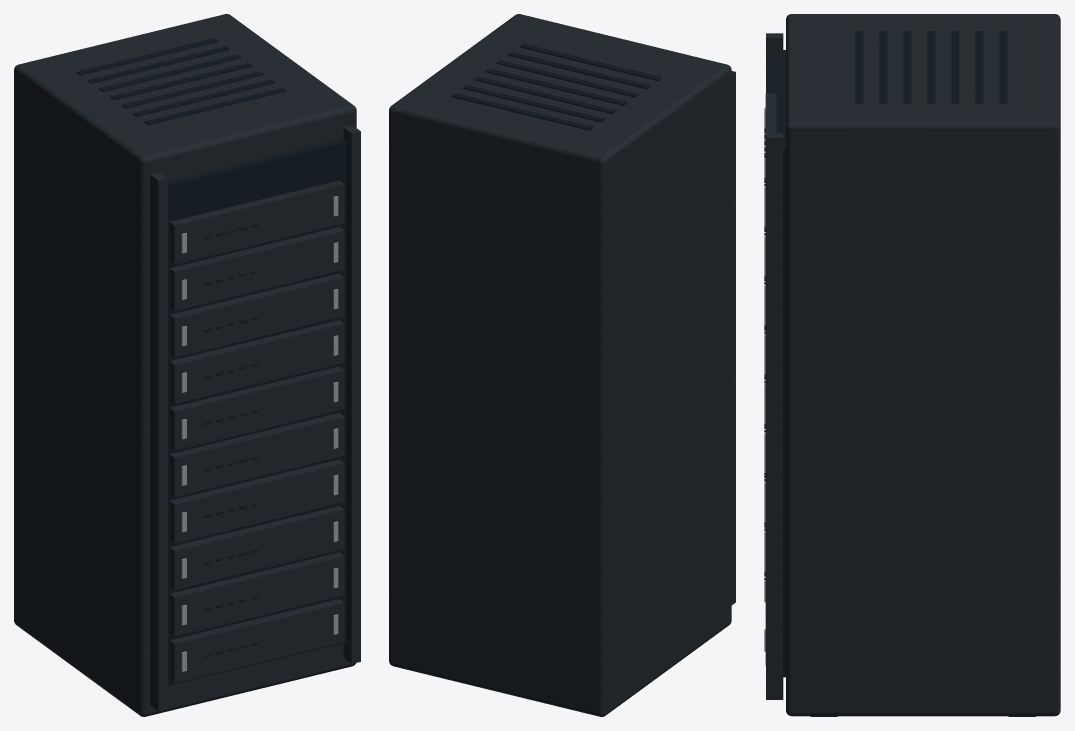
File: tech-server-rack-v1.glb
3 views of the same model, side by side, from view 1: azimuth 30°, elevation 25°; view 2: azimuth 150°, elevation 25°; view 3: azimuth 270°, elevation 25° (orthographic). The views are drawn at different scales.
Visible parts, largest first — view 1: tech-server-rack; view 2: tech-server-rack; view 3: tech-server-rack.
Boxes of the visible parts, x1,y1,x2,y2 form: tech-server-rack: (14, 14, 360, 716); tech-server-rack: (389, 14, 735, 716); tech-server-rack: (764, 14, 1060, 716).
Size of the model in its own units: 0.83 by 2.09 by 0.9275.
Materials: 4 (2 with a texture image).
